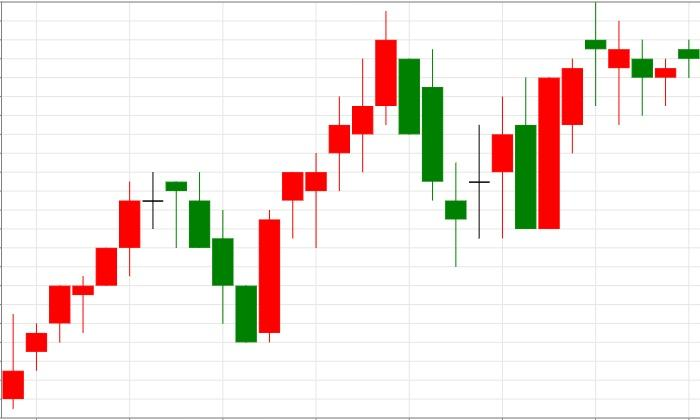bullish_engulfing_rise: (166, 172, 280, 342)
